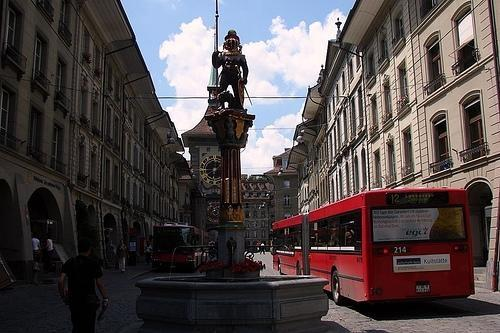bus: (309, 192, 477, 302), (150, 220, 212, 274)
